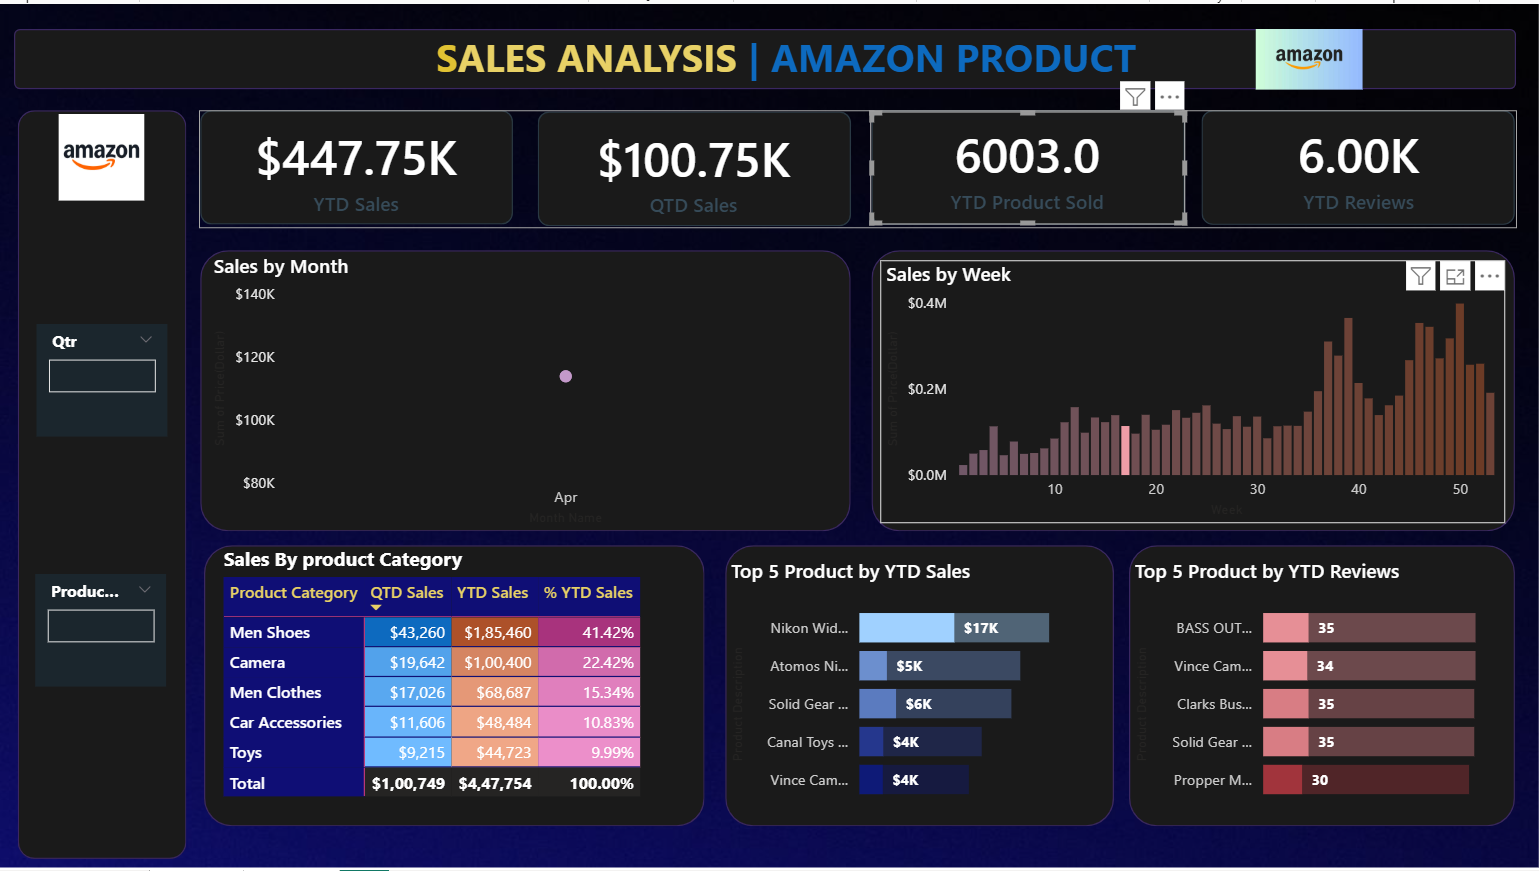

This screenshot's page, from the dashboard's own definition file:
{"tool":"powerbi","page":{"name":"Page 1","canvas":[1280,720],"ordinal":0},"visuals":[{"type":"shape","box":[12.8,20.9,1248.8,50],"z":0},{"type":"shape","box":[167.9,88.4,260,95],"z":0,"group":"g1"},{"type":"textbox","box":[358.1,17.4,605.8,53.5],"z":1000},{"type":"shape","box":[447.7,89.6,260.5,95.3],"z":1000,"group":"g1"},{"type":"shape","box":[15.6,88.3,140.3,622.5],"z":2000},{"type":"card","fields":{"Values":["Amazon_Data.QTD Sales"]},"box":[446.5,91.9,261.6,94.2],"z":2000,"group":"g1"},{"type":"group","id":"g1","title":"Group 1","box":[166.3,88.4,1095.4,97.7],"z":3000},{"type":"shape","box":[725.6,88.4,260.5,95.3],"z":3000,"group":"g1"},{"type":"shape","box":[1000,88.4,260.5,95.3],"z":4000,"group":"g1"},{"type":"shape","box":[167.4,204.7,540.7,233.7],"z":4000},{"type":"card","fields":{"Values":["Amazon_Data.YTD Sales"]},"box":[166.3,90.8,261.6,94.2],"z":5000,"group":"g1"},{"type":"areaChart","title":"Sales by Month","fields":{"Category":["Date Table.Month Name"],"Y":["Sum(Amazon_Data.Price(Dollar))"]},"box":[173.3,205.8,534.9,232.6],"z":5000},{"type":"card","fields":{"Values":["Amazon_Data.YTD Product Sold"]},"box":[724.4,89.6,261.6,93],"z":6000,"group":"g1"},{"type":"shape","box":[725.6,204.7,534.9,233.7],"z":6000},{"type":"card","fields":{"Values":["Amazon_Data.YTD Reviews"]},"box":[1000,88.4,261.6,94.2],"z":7000,"group":"g1"},{"type":"columnChart","title":"Sales by Week","fields":{"Category":["Date Table.Week"],"Y":["Sum(Amazon_Data.Price(Dollar))"]},"box":[732.6,212.8,519.8,218.6],"z":7000},{"type":"shape","box":[170.9,450,416.3,233.7],"z":8000},{"type":"pivotTable","title":"Sales By product Category","fields":{"Rows":["Amazon_Data.Product Category"],"Values":["Amazon_Data.QTD Sales","Amazon_Data.YTD Sales1","Amazon_Data.YTD Sales"]},"box":[181.4,450,396.5,225.6],"z":9000},{"type":"shape","box":[603.5,450,323.3,233.7],"z":10000},{"type":"shape","box":[939.5,450,320.9,233.7],"z":11000},{"type":"clusteredBarChart","title":"Top 5 Product by YTD Sales","fields":{"Category":["Amazon_Data.Product Description"],"Y":["Amazon_Data.YTD Sales"]},"box":[603.5,459.3,323.3,216.3],"z":12000},{"type":"clusteredBarChart","title":"Top 5 Product by YTD Reviews","fields":{"Category":["Amazon_Data.Product Description"],"Y":["Amazon_Data.YTD Reviews"]},"box":[939.5,459.3,323.3,216.3],"z":13000},{"type":"slicer","fields":{"Values":["Amazon_Data.Product Category"]},"box":[30.1,473.9,109.1,93.5],"z":14000},{"type":"slicer","fields":{"Values":["Date Table.Qtr"]},"box":[31.2,266.1,109.1,93.5],"z":15000},{"type":"image","box":[1018.6,20.9,141.9,50],"z":16000},{"type":"image","box":[0,91.5,170.4,71.7],"z":17000}]}

Visuals, with their boxes in screenshot pixels (x1, y1, x2, y2), scaled from the page's 1280x720 canvas onto the 1539x871 screenshot:
shape: 15,25,1517,86
shape: 202,107,514,222
textbox: 431,21,1159,86
shape: 538,108,851,224
shape: 19,107,187,860
card - Amazon_Data.QTD Sales: 537,111,851,225
"Group 1" group: 200,107,1517,225
shape: 872,107,1186,222
shape: 1202,107,1516,222
shape: 201,248,851,530
card - Amazon_Data.YTD Sales: 200,110,514,224
"Sales by Month" areaChart: 208,249,851,530
card - Amazon_Data.YTD Product Sold: 871,108,1186,221
shape: 872,248,1516,530
card - Amazon_Data.YTD Reviews: 1202,107,1517,221
"Sales by Week" columnChart: 881,257,1506,522
shape: 205,544,706,827
"Sales By product Category" pivotTable: 218,544,695,817
shape: 726,544,1114,827
shape: 1130,544,1515,827
"Top 5 Product by YTD Sales" clusteredBarChart: 726,556,1114,817
"Top 5 Product by YTD Reviews" clusteredBarChart: 1130,556,1518,817
slicer - Amazon_Data.Product Category: 36,573,167,686
slicer - Date Table.Qtr: 38,322,169,435
image: 1225,25,1395,86
image: 0,111,205,197
